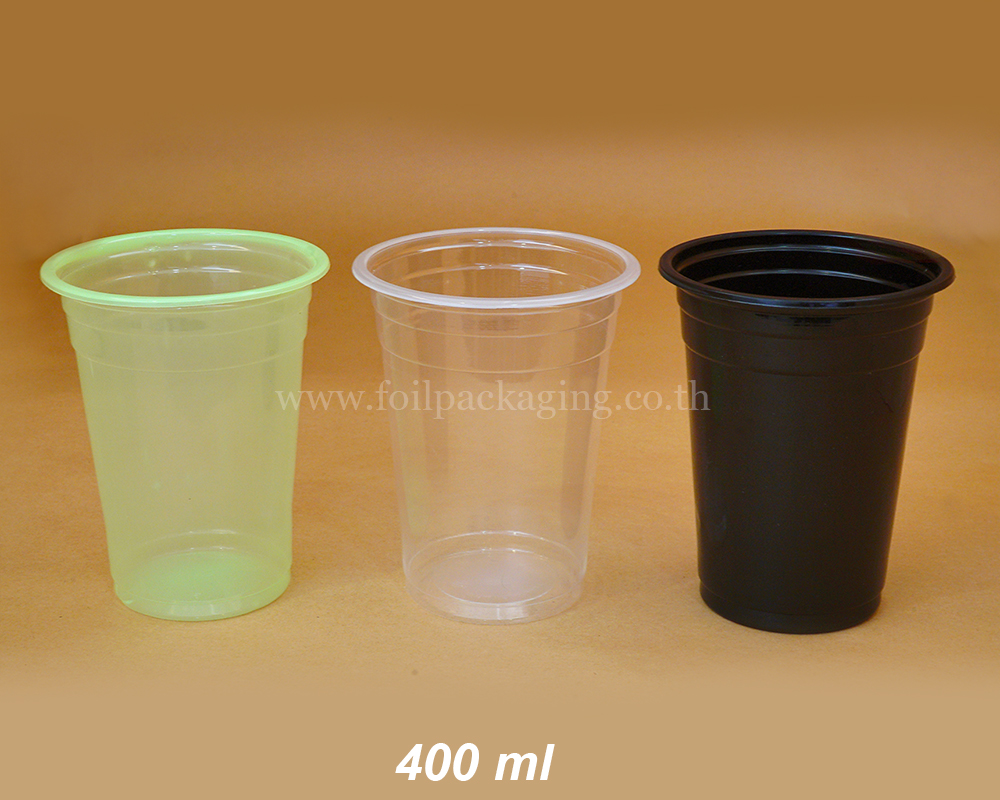plastic_glass: (651, 227, 962, 638), (34, 223, 339, 632), (344, 223, 645, 629)
